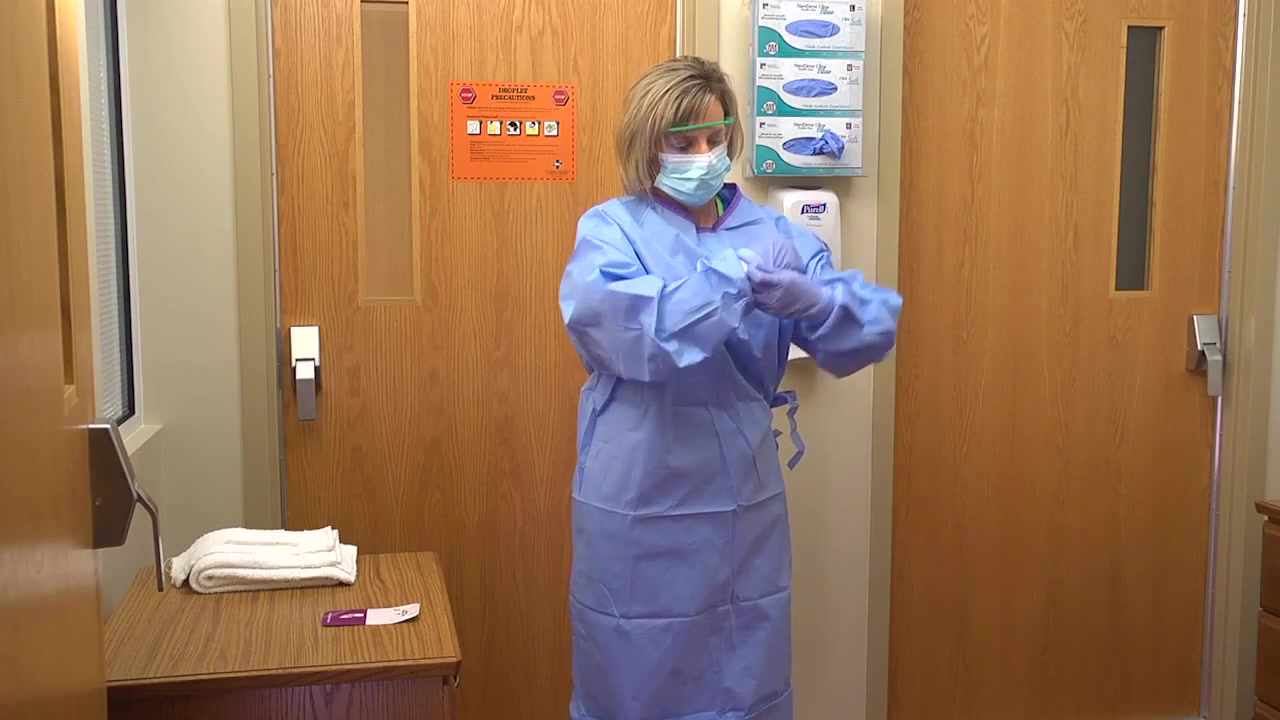Coverall: (546, 183, 850, 720)
Face_Shield: (641, 118, 750, 205)
Gloves: (737, 253, 829, 333)
with_mask: (648, 146, 733, 204)
